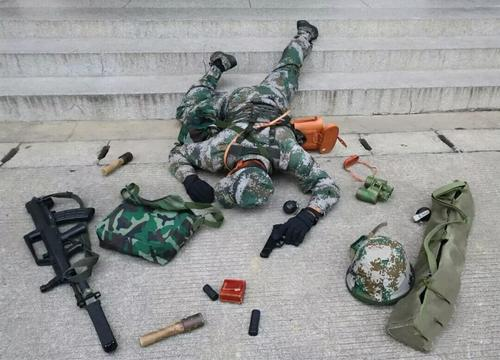down: (157, 13, 353, 258)
